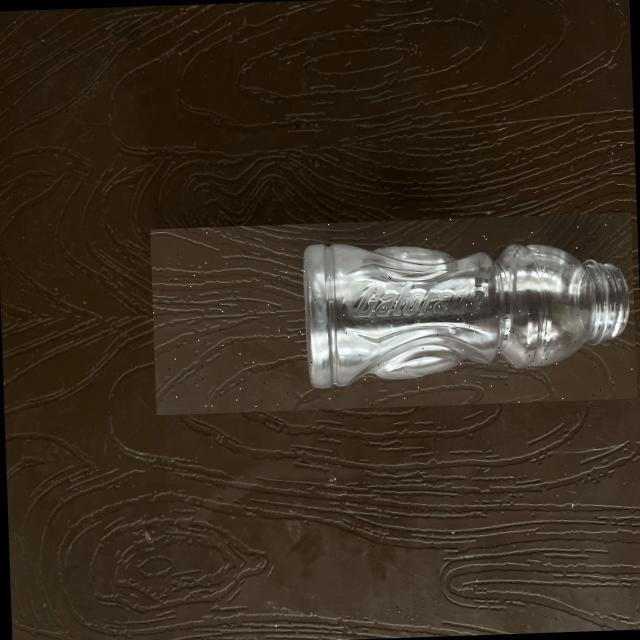PET_ClearBottle: (149, 212, 636, 415)
